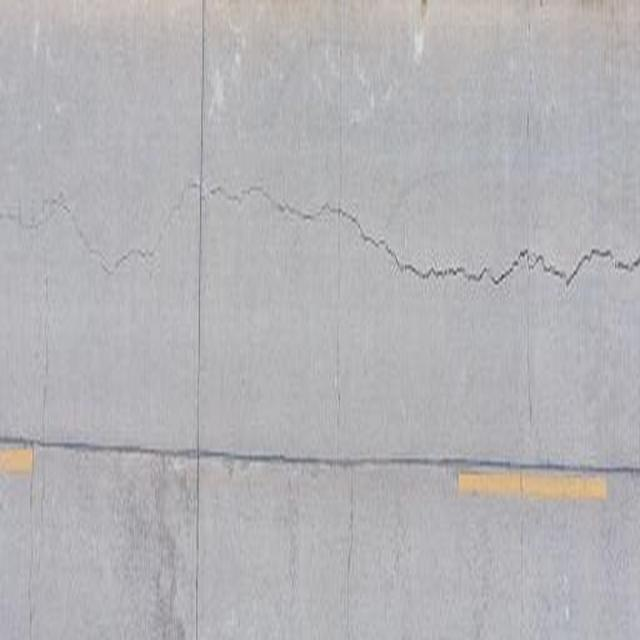Crack: (289, 183, 640, 308)
